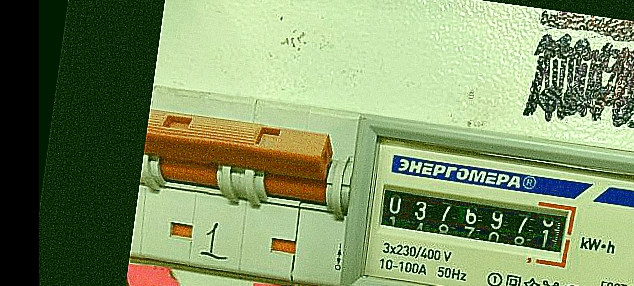0: (386, 192, 405, 215)
1: (539, 227, 552, 249)
3: (412, 197, 429, 222)
6: (464, 203, 480, 225)
7: (438, 198, 454, 224), (514, 211, 530, 235)
9: (489, 207, 505, 231)
screen: (369, 176, 580, 271)
